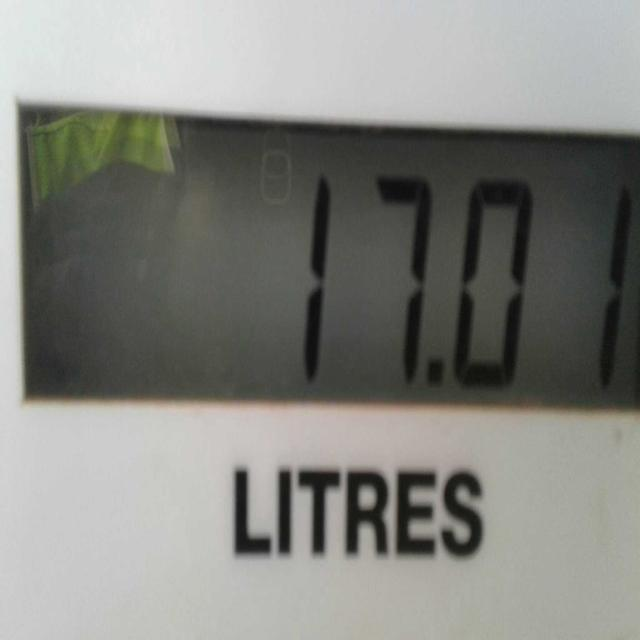.: (418, 344, 454, 399)
0: (450, 169, 534, 393)
1: (559, 169, 640, 399), (294, 166, 344, 393)
7: (355, 158, 434, 396)
